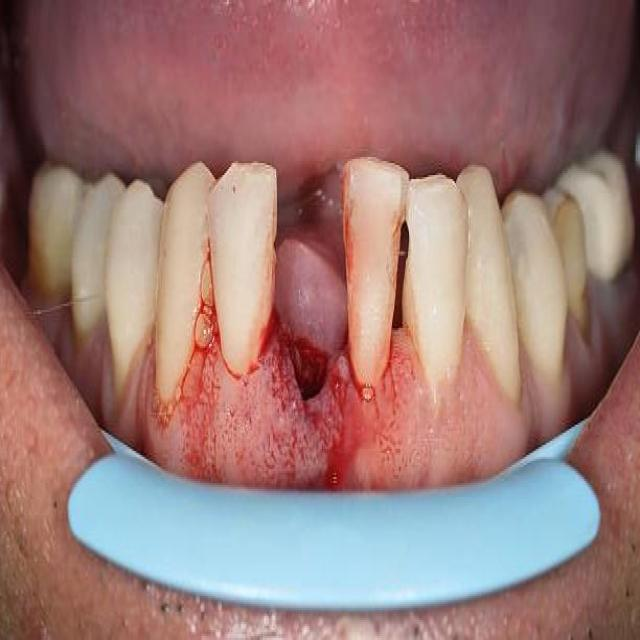caries: (390, 220, 422, 342)
